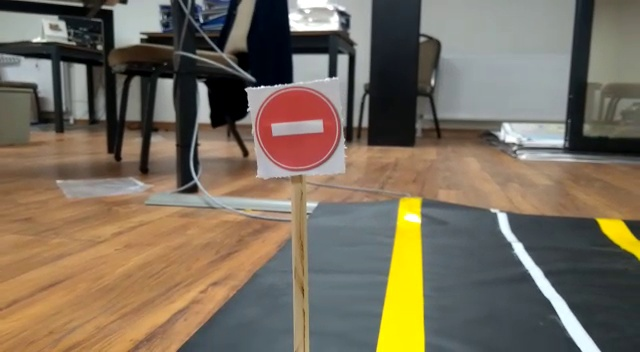girisi_olmayan_yol: (248, 74, 343, 173)
